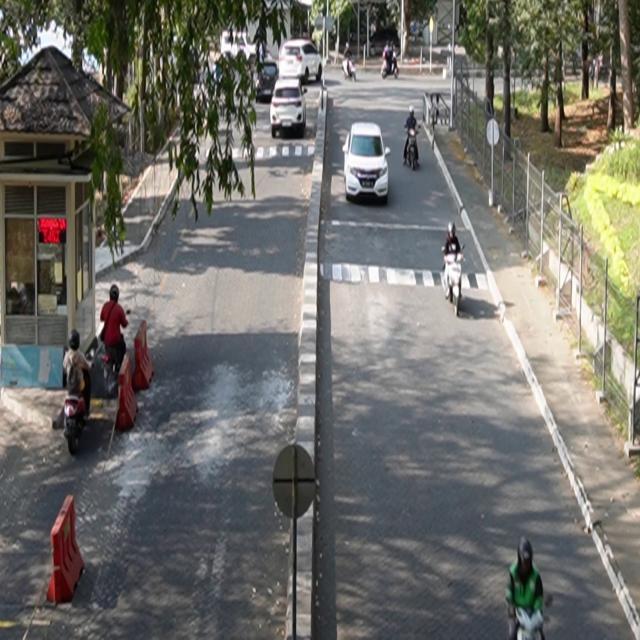car: (343, 122, 392, 205), (271, 78, 308, 139)
